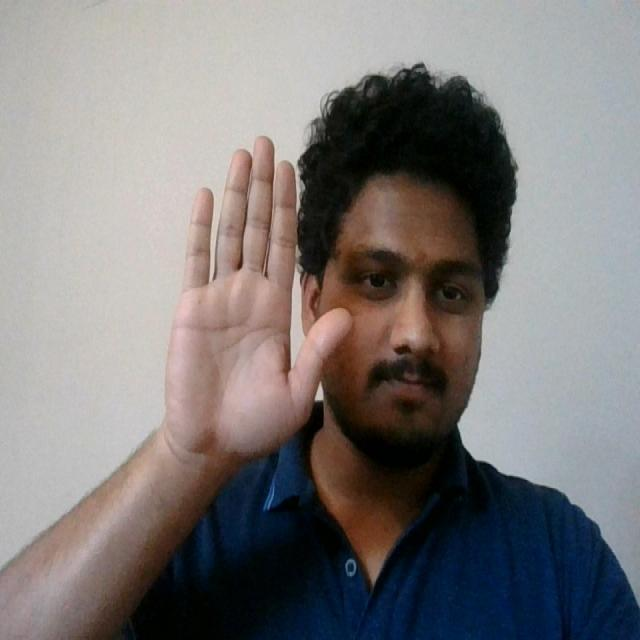Hello: (158, 128, 358, 473)
